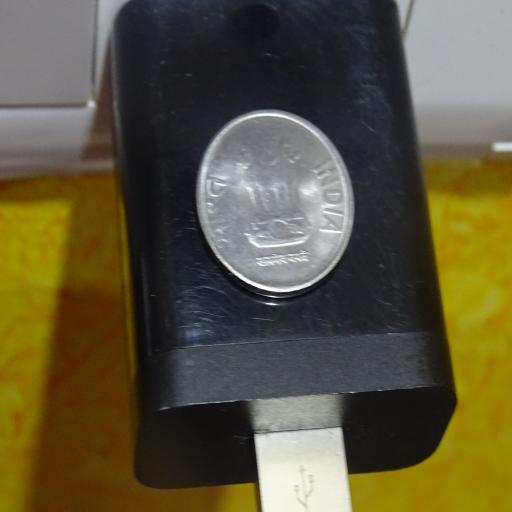rupee1: (196, 108, 352, 293)
